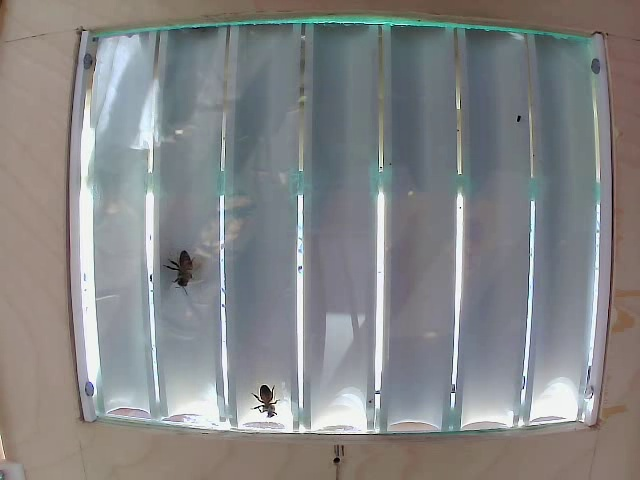bee: (155, 245, 202, 290), (252, 380, 280, 414)
